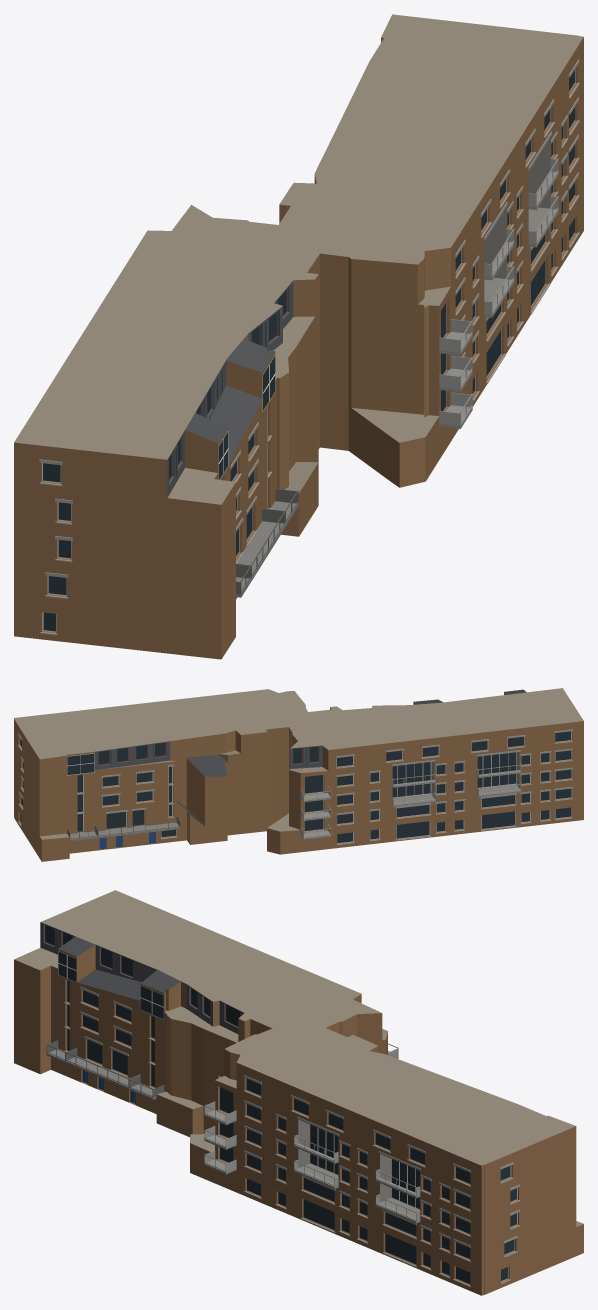
The model's file is recipe-large-grote-wittenburgerstraat-210-170653.glb.
3 renders of one model, top to bottom at view 1: azimuth 30°, elevation 25°; view 2: azimuth 150°, elevation 25°; view 3: azimuth 270°, elevation 25°, orthographic. The views are drawn at different scales.
Visible parts, largest first — view 1: grote-wittenburgerstraat-210-170653; view 2: grote-wittenburgerstraat-210-170653; view 3: grote-wittenburgerstraat-210-170653.
Part boxes in pixels (x1=…): grote-wittenburgerstraat-210-170653: x1=14, y1=14, x2=583, y2=659; grote-wittenburgerstraat-210-170653: x1=14, y1=688, x2=583, y2=861; grote-wittenburgerstraat-210-170653: x1=14, y1=890, x2=583, y2=1295.
Size of the model in its own units: 63.89 by 14.06 by 55.8.
